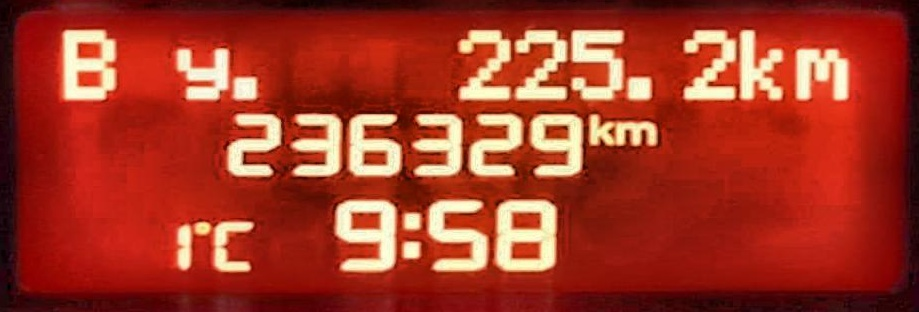-: (623, 74, 655, 101), (229, 74, 259, 102)
1: (170, 223, 193, 271)
2: (679, 26, 739, 101), (454, 26, 512, 101), (510, 26, 567, 101), (221, 111, 283, 179), (465, 112, 523, 177)
3: (287, 110, 343, 178), (409, 111, 465, 177)
5: (422, 198, 490, 272), (567, 26, 624, 102)
6: (344, 110, 404, 178)
8: (489, 197, 560, 272)
9: (329, 197, 398, 273), (527, 112, 584, 177)
X: (57, 25, 119, 101), (738, 28, 786, 102), (790, 46, 851, 103), (173, 45, 229, 102), (209, 218, 255, 272), (613, 118, 659, 147), (399, 211, 421, 259), (584, 113, 615, 146)
